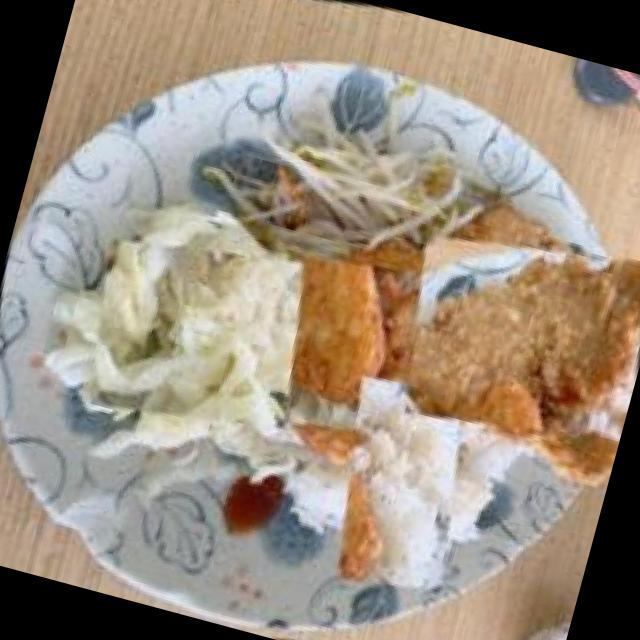chinese_cabbage: (69, 205, 324, 460)
fried_chicken: (387, 191, 640, 478)
mung_bean_sprouts: (261, 112, 457, 266)
rice: (294, 374, 508, 588)
triangle_hash_brown: (249, 222, 500, 473)
